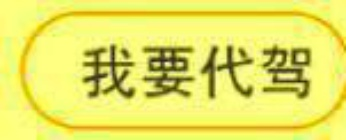Button: (1, 1, 345, 139)
